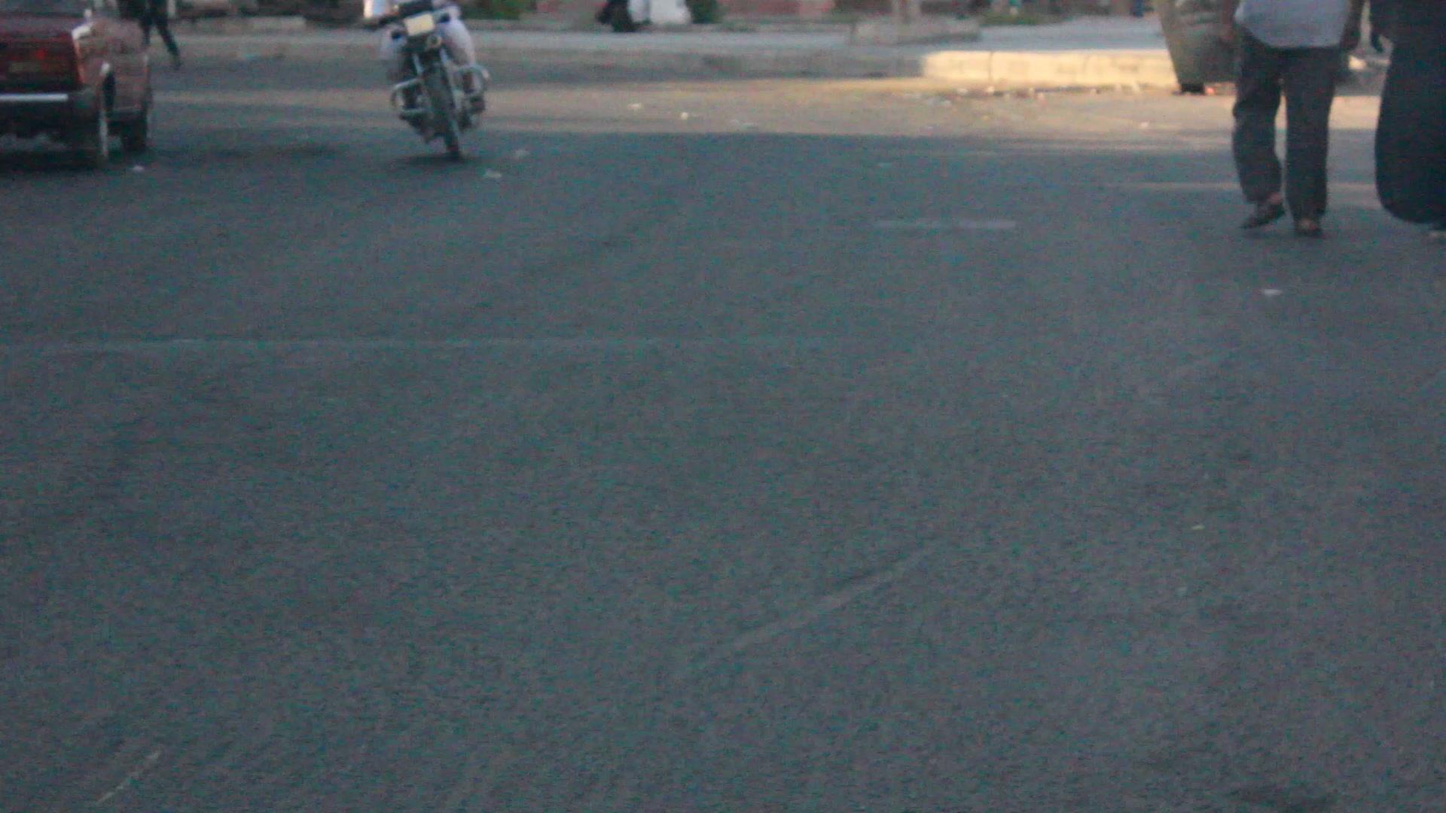Bump: (0, 331, 1446, 559)
